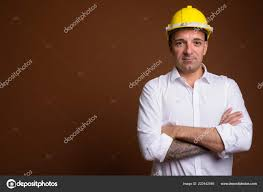Person_wearing_helmet: (163, 1, 212, 49)
